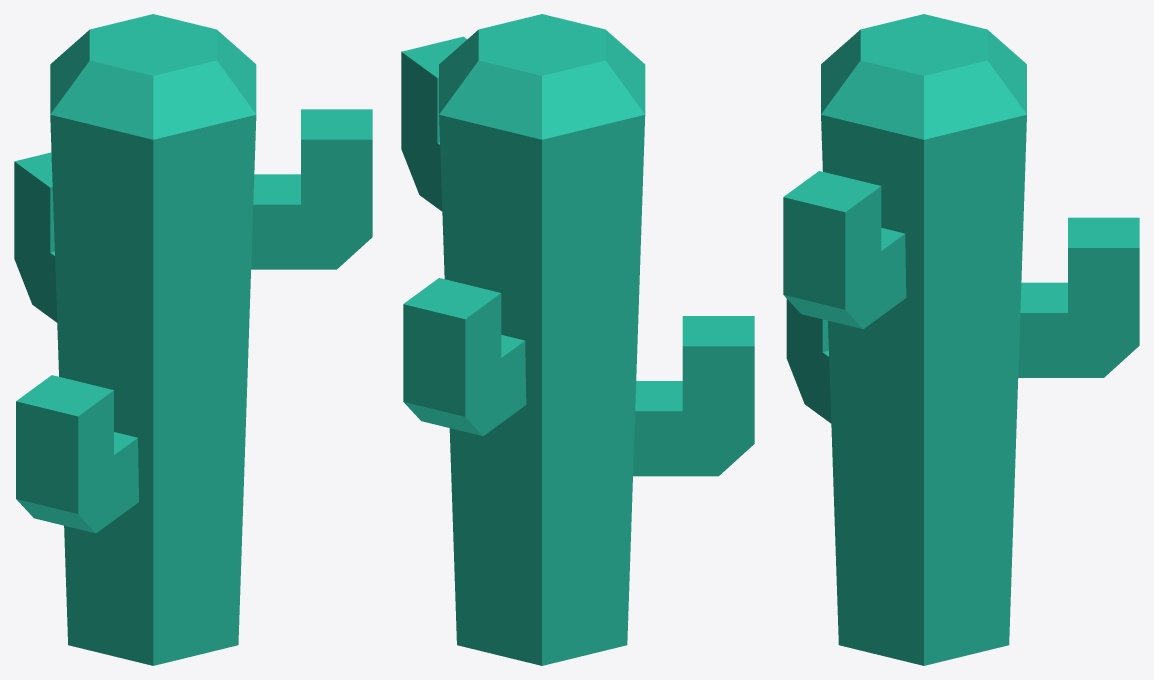
The model's file is cactus_short.dae.
The picture shows the model from 3 angles, left to right: view 1: azimuth 30°, elevation 25°; view 2: azimuth 150°, elevation 25°; view 3: azimuth 270°, elevation 25°; orthographic projection.
Visible parts, largest first — view 1: cactus_short; view 2: cactus_short; view 3: cactus_short.
Boxes of the visible parts, left/top/right/bottom form: cactus_short: left=14, top=14, right=372, bottom=665; cactus_short: left=401, top=14, right=754, bottom=665; cactus_short: left=783, top=14, right=1139, bottom=665.
Bounding box in the file's own units: 0.3417 × 0.533 × 0.2972.
